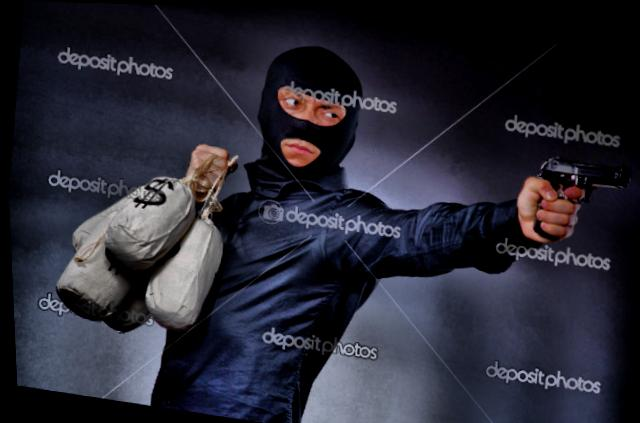pistol: (511, 147, 633, 265)
